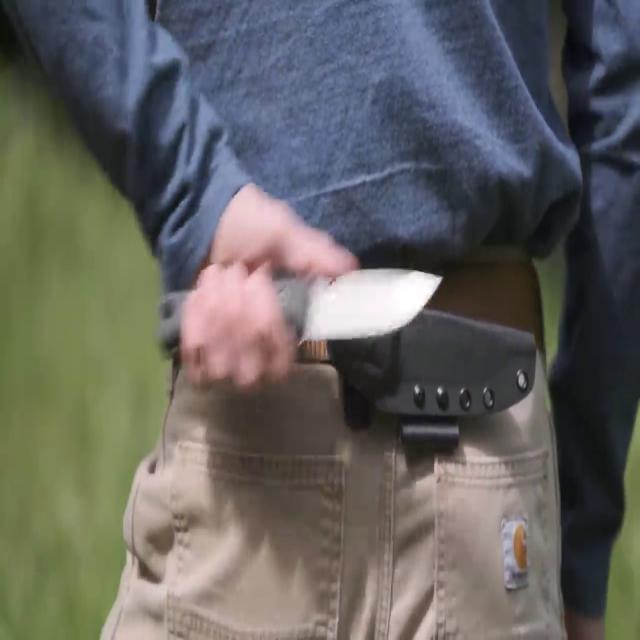Knife: (154, 258, 462, 346)
